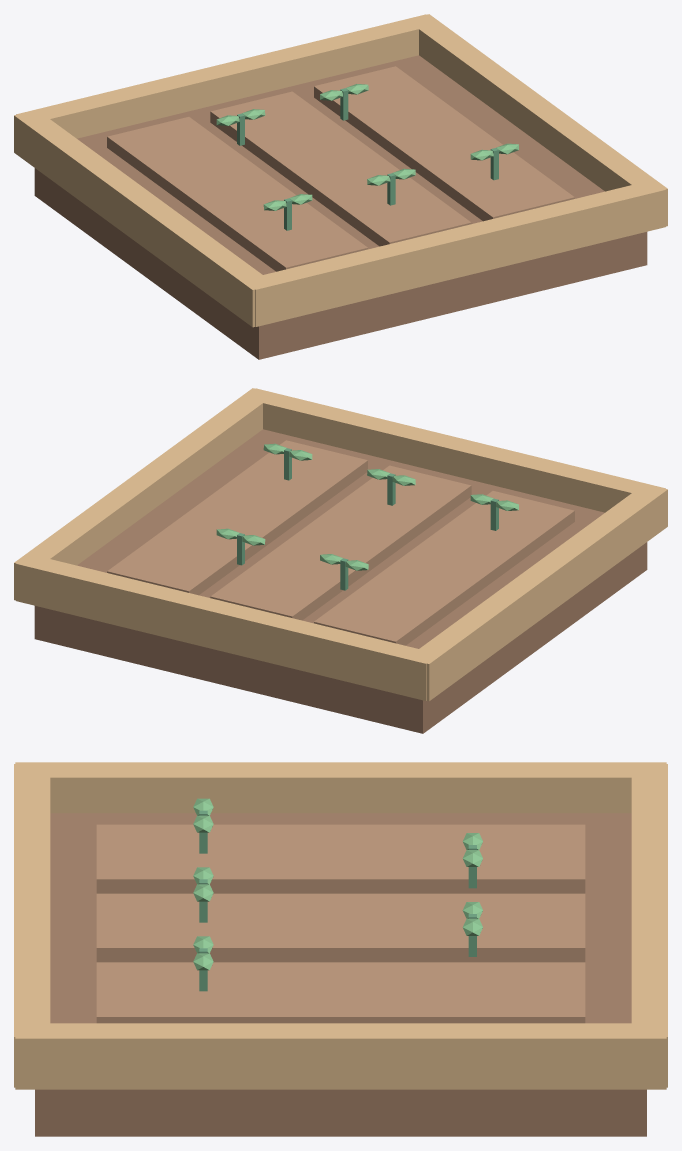
Rendered from plot_carrot_sprout.glb.
3 renders of one model, top to bottom at view 1: azimuth 30°, elevation 25°; view 2: azimuth 150°, elevation 25°; view 3: azimuth 270°, elevation 25°, orthographic. The views are drawn at different scales.
Parts seen in each view (by area): view 1: square soil bed.007, short timber edge.014, raised planting row.021, raised planting row.022, raised planting row.023, short timber edge.015, long timber edge.014, long timber edge.015; view 2: square soil bed.007, short timber edge.015, raised planting row.021, raised planting row.022, raised planting row.023, short timber edge.014, long timber edge.014, long timber edge.015; view 3: square soil bed.007, long timber edge.015, raised planting row.021, raised planting row.022, long timber edge.014, raised planting row.023, short timber edge.015, short timber edge.014.
Part boxes in pixels (x1,y1,x2,y2): square soil bed.007: (34,55,647,359); short timber edge.014: (243,180,665,326); raised planting row.021: (107,117,367,271); raised planting row.022: (210,91,471,246); raised planting row.023: (314,66,574,221); short timber edge.015: (16,14,438,138); long timber edge.014: (14,110,270,327); long timber edge.015: (407,14,667,226); square soil bed.007: (34,429,647,733); short timber edge.015: (16,554,438,700); raised planting row.021: (314,491,574,645); raised planting row.022: (210,465,471,620); raised planting row.023: (107,440,367,595); short timber edge.014: (243,388,665,512); long timber edge.014: (411,484,667,701); long timber edge.015: (14,388,274,600); square soil bed.007: (35,813,646,1136); long timber edge.015: (15,1023,666,1089); raised planting row.021: (96,824,585,893); raised planting row.022: (96,893,585,962); long timber edge.014: (15,762,666,813); raised planting row.023: (96,962,585,1023); short timber edge.015: (631,764,667,1087); short timber edge.014: (14,764,50,1087).
Size of the model in its own units: 2.33 by 0.5045 by 2.33.
